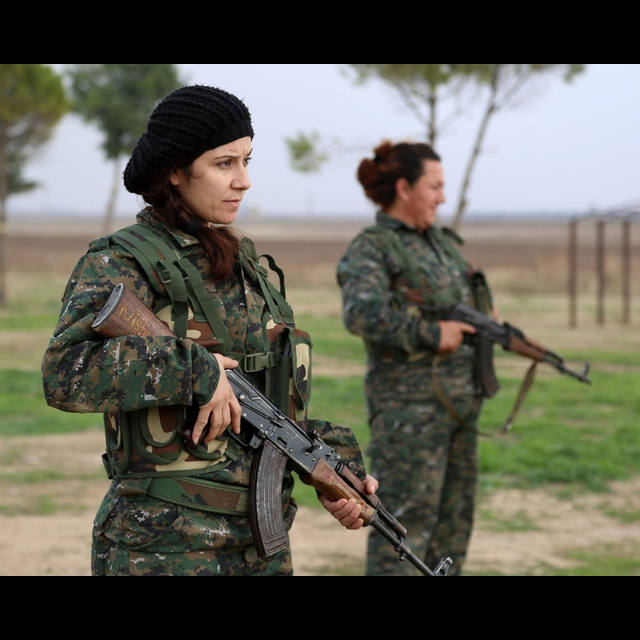AK47: (202, 359, 456, 576), (446, 300, 597, 398)
